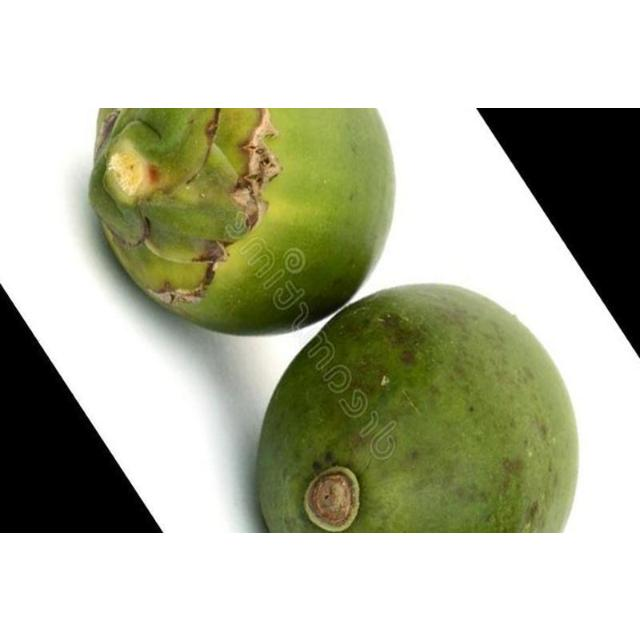good: (254, 283, 581, 532), (87, 107, 398, 337)
